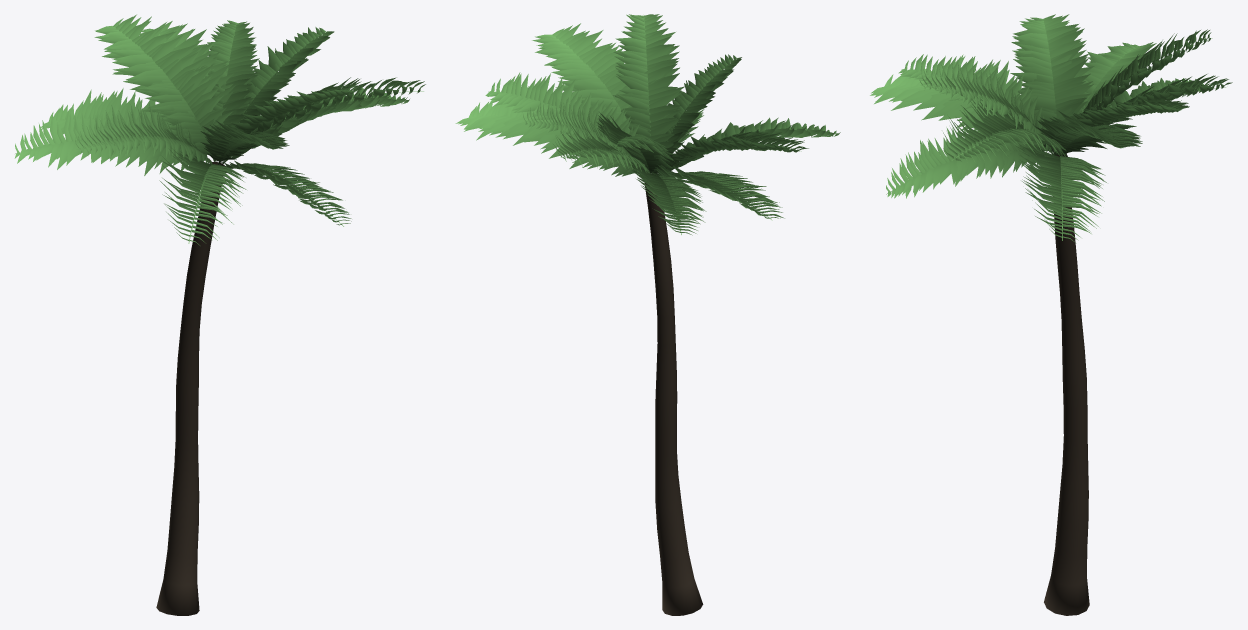
The model's file is SM_Palm_01_TallStraight.fbx.
3 renders of one model, left to right at view 1: azimuth 30°, elevation 25°; view 2: azimuth 150°, elevation 25°; view 3: azimuth 270°, elevation 25°, orthographic. The views are drawn at different scales.
Parts seen in each view (by area): view 1: SM_Palm_01_TallStraight; view 2: SM_Palm_01_TallStraight; view 3: SM_Palm_01_TallStraight.
Part boxes in pixels (x1=…): SM_Palm_01_TallStraight: x1=14, y1=14, x2=425, y2=615; SM_Palm_01_TallStraight: x1=455, y1=14, x2=840, y2=615; SM_Palm_01_TallStraight: x1=870, y1=14, x2=1232, y2=615.
Bounding box in the file's own units: 628 × 900 × 508.
